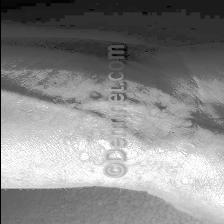Non-Cancerous Skin Condition: (4, 66, 104, 156), (130, 92, 224, 154)
